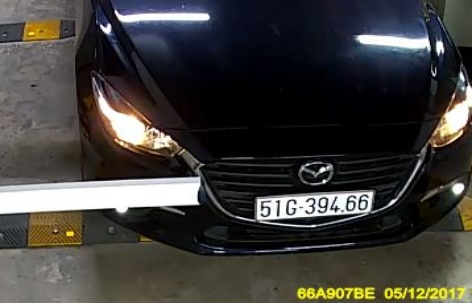plate: (252, 187, 381, 224)
